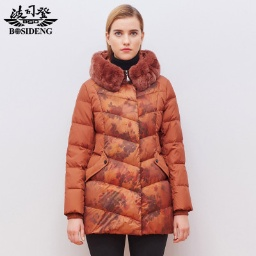face: (101, 1, 147, 69)
